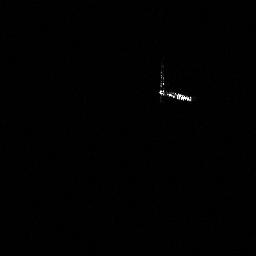ship: (157, 70, 193, 102)
